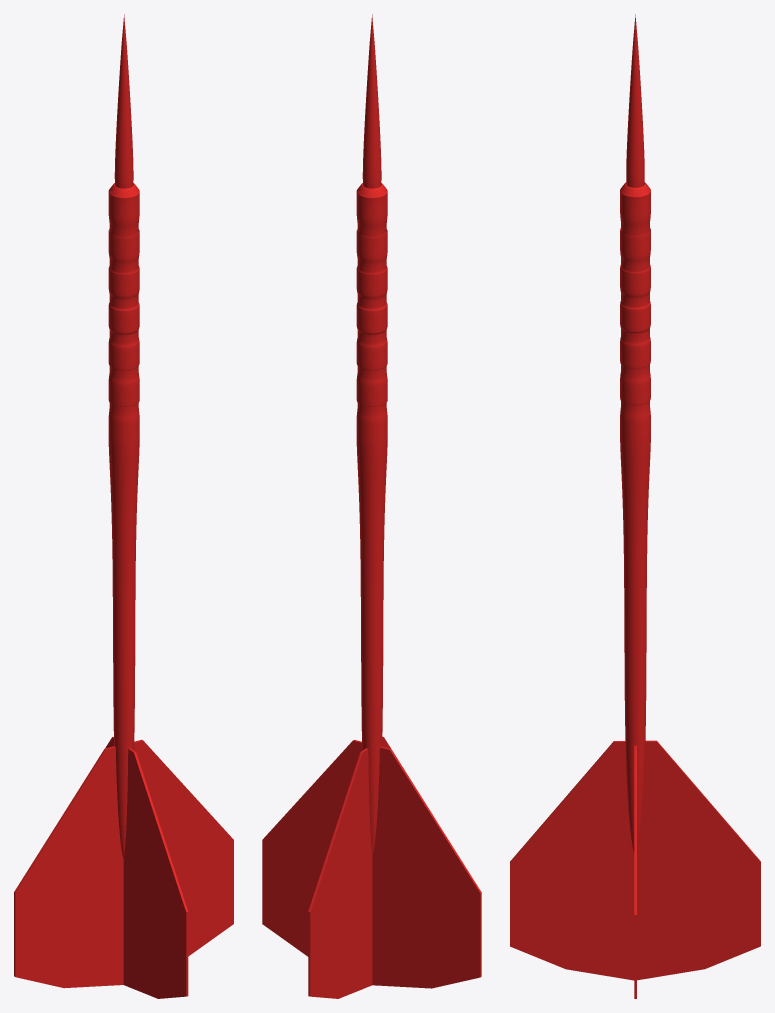
The model's file is Dart_rot.fbx.
3 renders of one model, left to right at view 1: azimuth 30°, elevation 25°; view 2: azimuth 150°, elevation 25°; view 3: azimuth 270°, elevation 25°, orthographic.
Visible parts, largest first — view 1: body; view 2: body; view 3: body.
Boxes of the visible parts, x1,y1,x2,y2 form: body: [14, 14, 233, 998]; body: [262, 14, 481, 998]; body: [510, 14, 760, 998].
Bounding box in the file's own units: 28.45 × 121 × 28.45.
